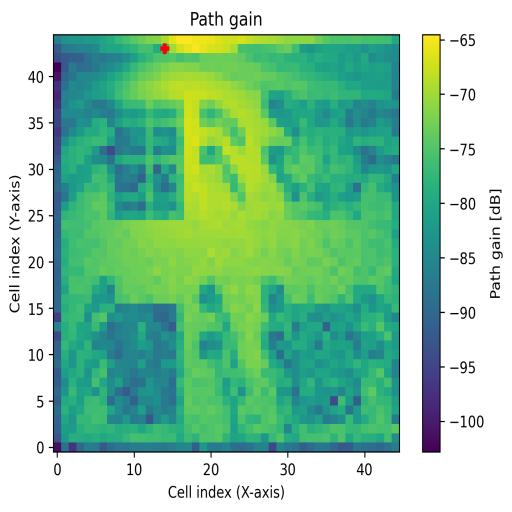Concrete: (285, 102, 361, 220)
Glass: (108, 101, 185, 218)
Metal: (276, 304, 362, 424)
Wood: (92, 303, 185, 426)
